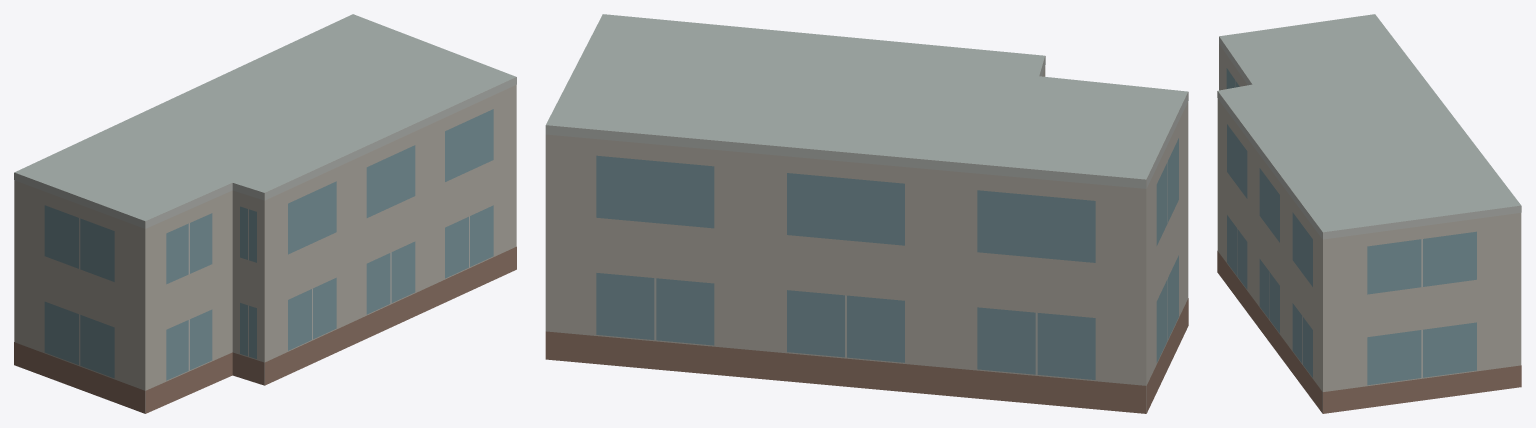
File: survey-upis-32982389.glb
3 renders of one model, left to right at view 1: azimuth 30°, elevation 25°; view 2: azimuth 150°, elevation 25°; view 3: azimuth 270°, elevation 25°, orthographic. The views are drawn at different scales.
Parts seen in each view (by area): view 1: survey-upis-32982389.tmp; view 2: survey-upis-32982389.tmp; view 3: survey-upis-32982389.tmp.
Boxes of the visible parts, x1,y1,x2,y2 form: survey-upis-32982389.tmp: [14, 14, 516, 413]; survey-upis-32982389.tmp: [545, 14, 1188, 413]; survey-upis-32982389.tmp: [1217, 14, 1521, 413].
Bounding box in the file's own units: 15.74 × 6.1 × 9.27.
